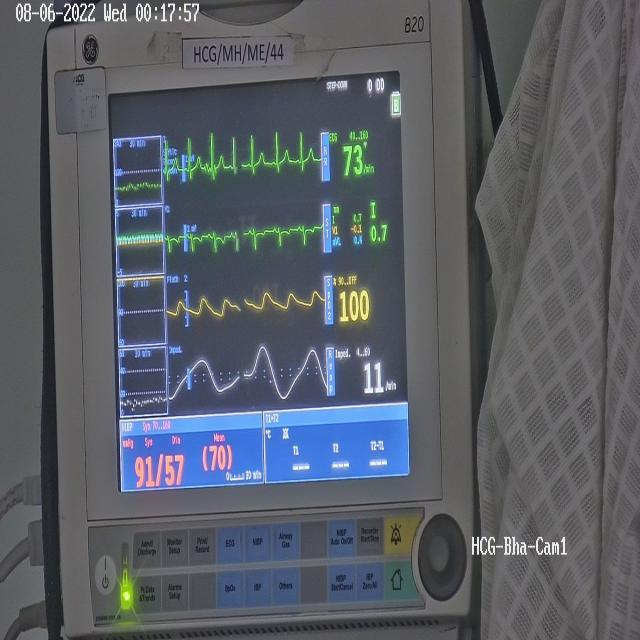Monitor: (40, 0, 479, 638)
